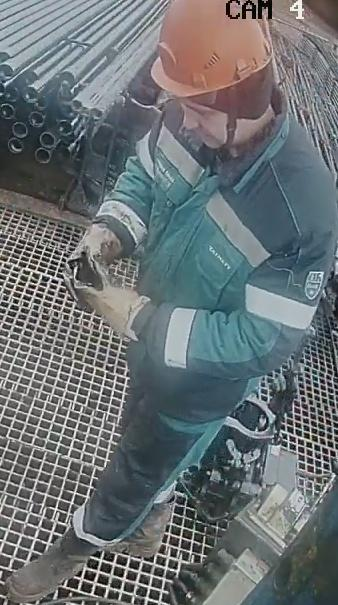gloves: (68, 260, 149, 340), (65, 215, 126, 275)
helmet: (149, 0, 274, 98)
vest: (127, 107, 334, 421)
